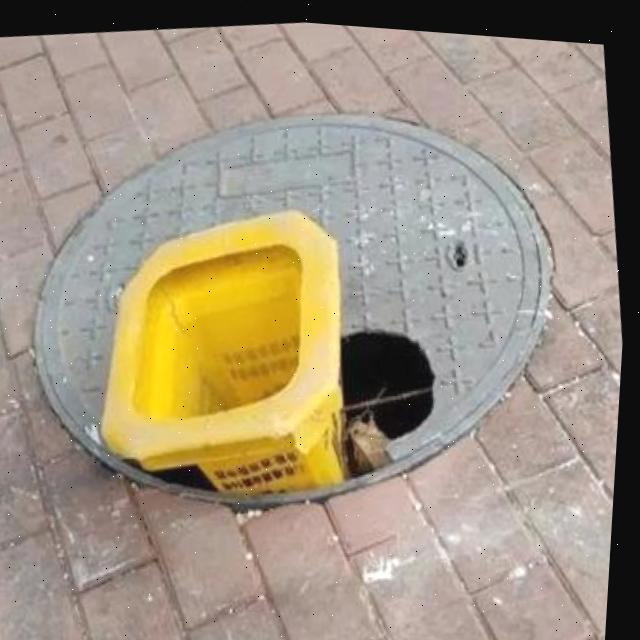manhole: (10, 53, 587, 537)
